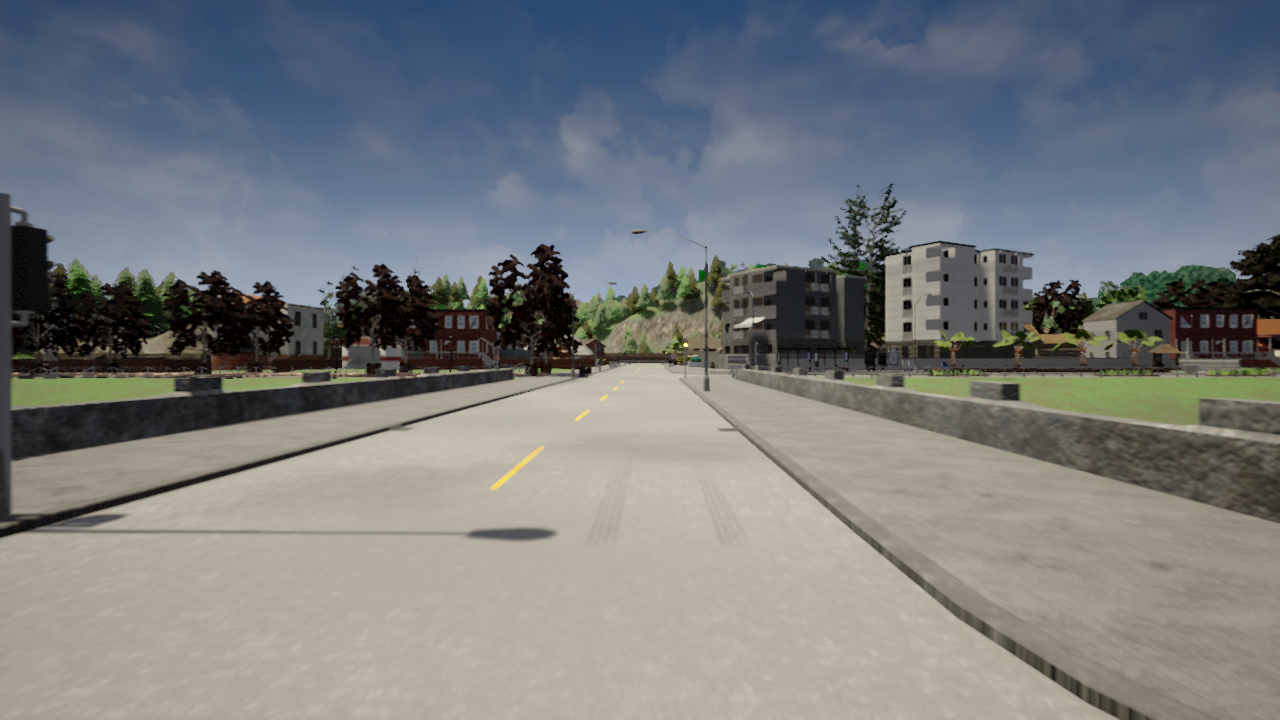yellow: (682, 339, 688, 351)
